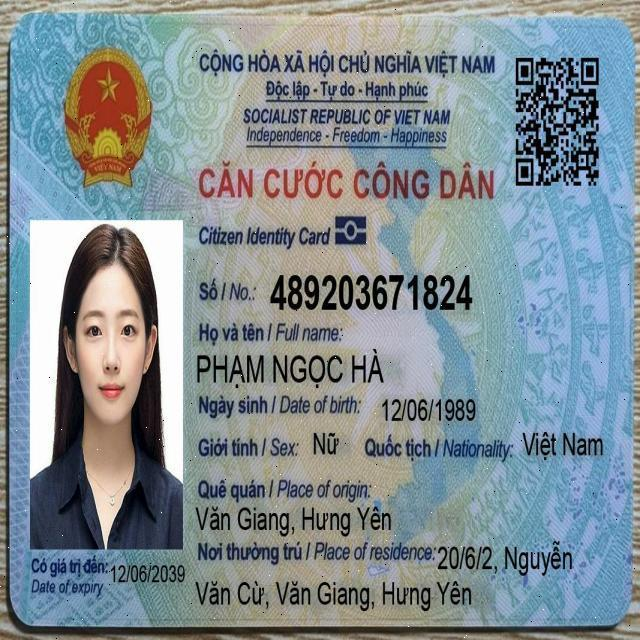current_place: (193, 577, 473, 615), (436, 538, 574, 580)
dob: (380, 393, 479, 426)
expire_date: (108, 561, 187, 587)
gender: (311, 427, 341, 461)
id: (267, 267, 477, 316)
name: (192, 345, 387, 392)
nationality: (520, 427, 606, 463)
origin_place: (194, 502, 394, 539)
